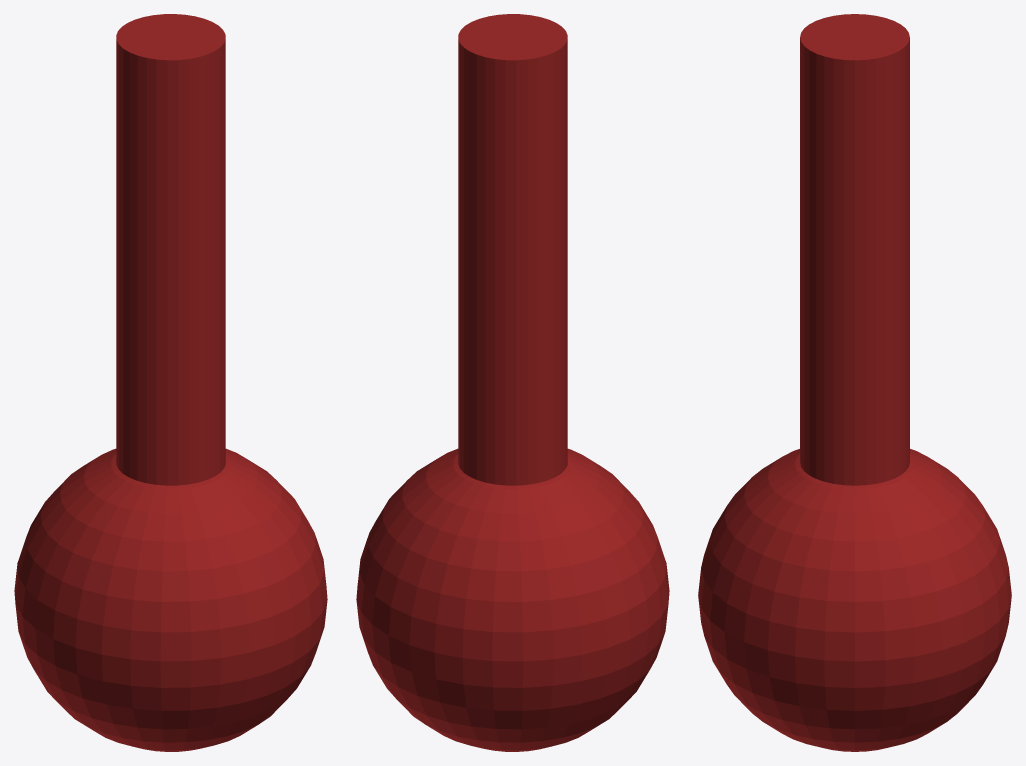
The model's file is buoy_red.fbx.
3 renders of one model, left to right at view 1: azimuth 30°, elevation 25°; view 2: azimuth 150°, elevation 25°; view 3: azimuth 270°, elevation 25°, orthographic.
Visible parts, largest first — view 1: Sphere.001, Cylinder.019; view 2: Sphere.001, Cylinder.019; view 3: Sphere.001, Cylinder.019.
Part boxes in pixels (box(x1,y1,x2,y2)): Sphere.001: box(14, 448, 327, 751); Cylinder.019: box(116, 14, 225, 485); Sphere.001: box(356, 448, 669, 751); Cylinder.019: box(458, 14, 567, 485); Sphere.001: box(698, 449, 1011, 751); Cylinder.019: box(800, 14, 909, 485).
Bounding box in the file's own units: 40 × 98.5 × 40.
Materials: 1 (1 with a texture image).
